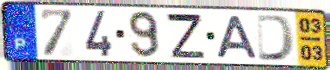4: (82, 9, 114, 59)
7: (40, 8, 74, 58)
9: (127, 9, 162, 60)
A: (215, 15, 260, 60)
D: (255, 13, 298, 63)
Z: (164, 12, 207, 60)
